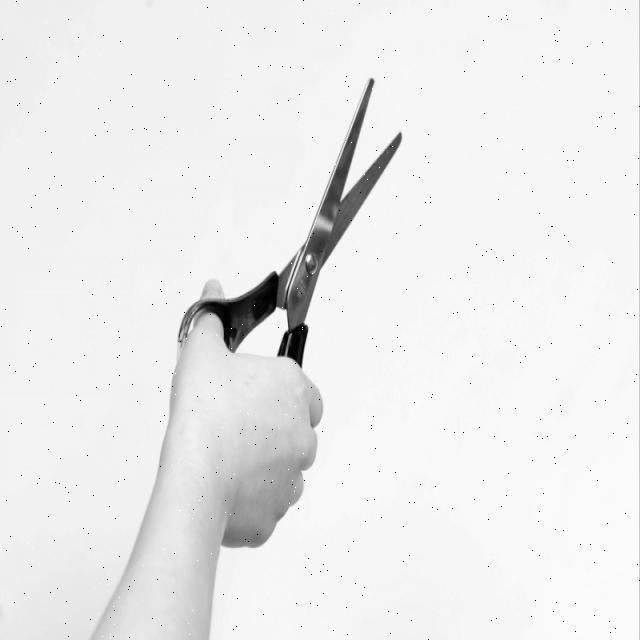scissors: (172, 70, 404, 506)
